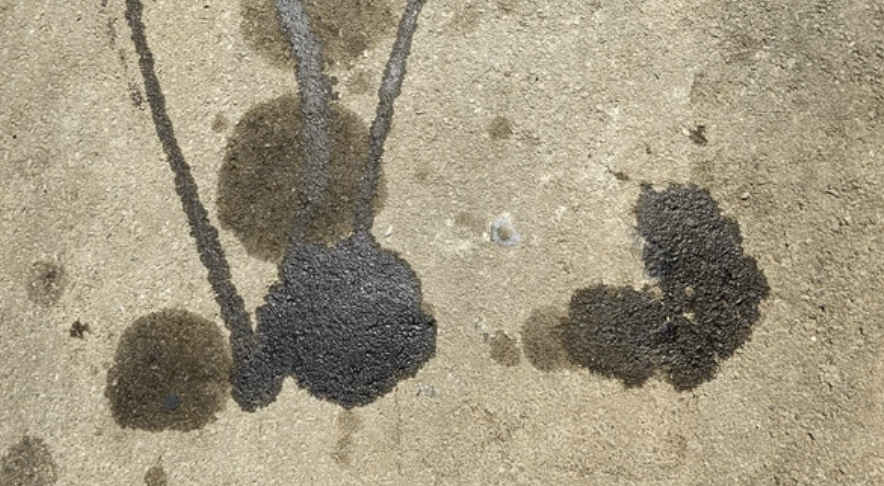oil: (51, 1, 223, 219), (278, 89, 388, 198), (2, 219, 34, 243), (11, 129, 33, 153)
